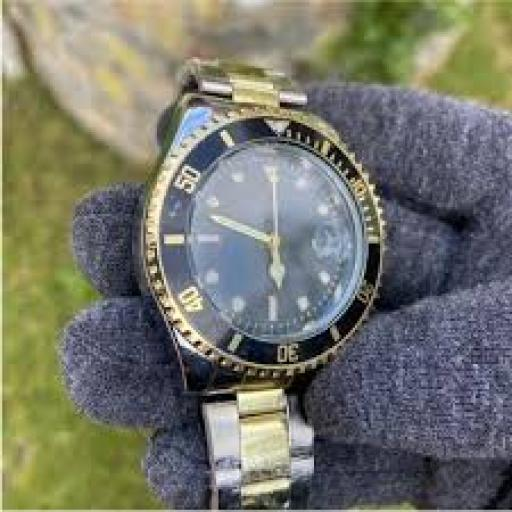KolSaati: (104, 17, 408, 512)
